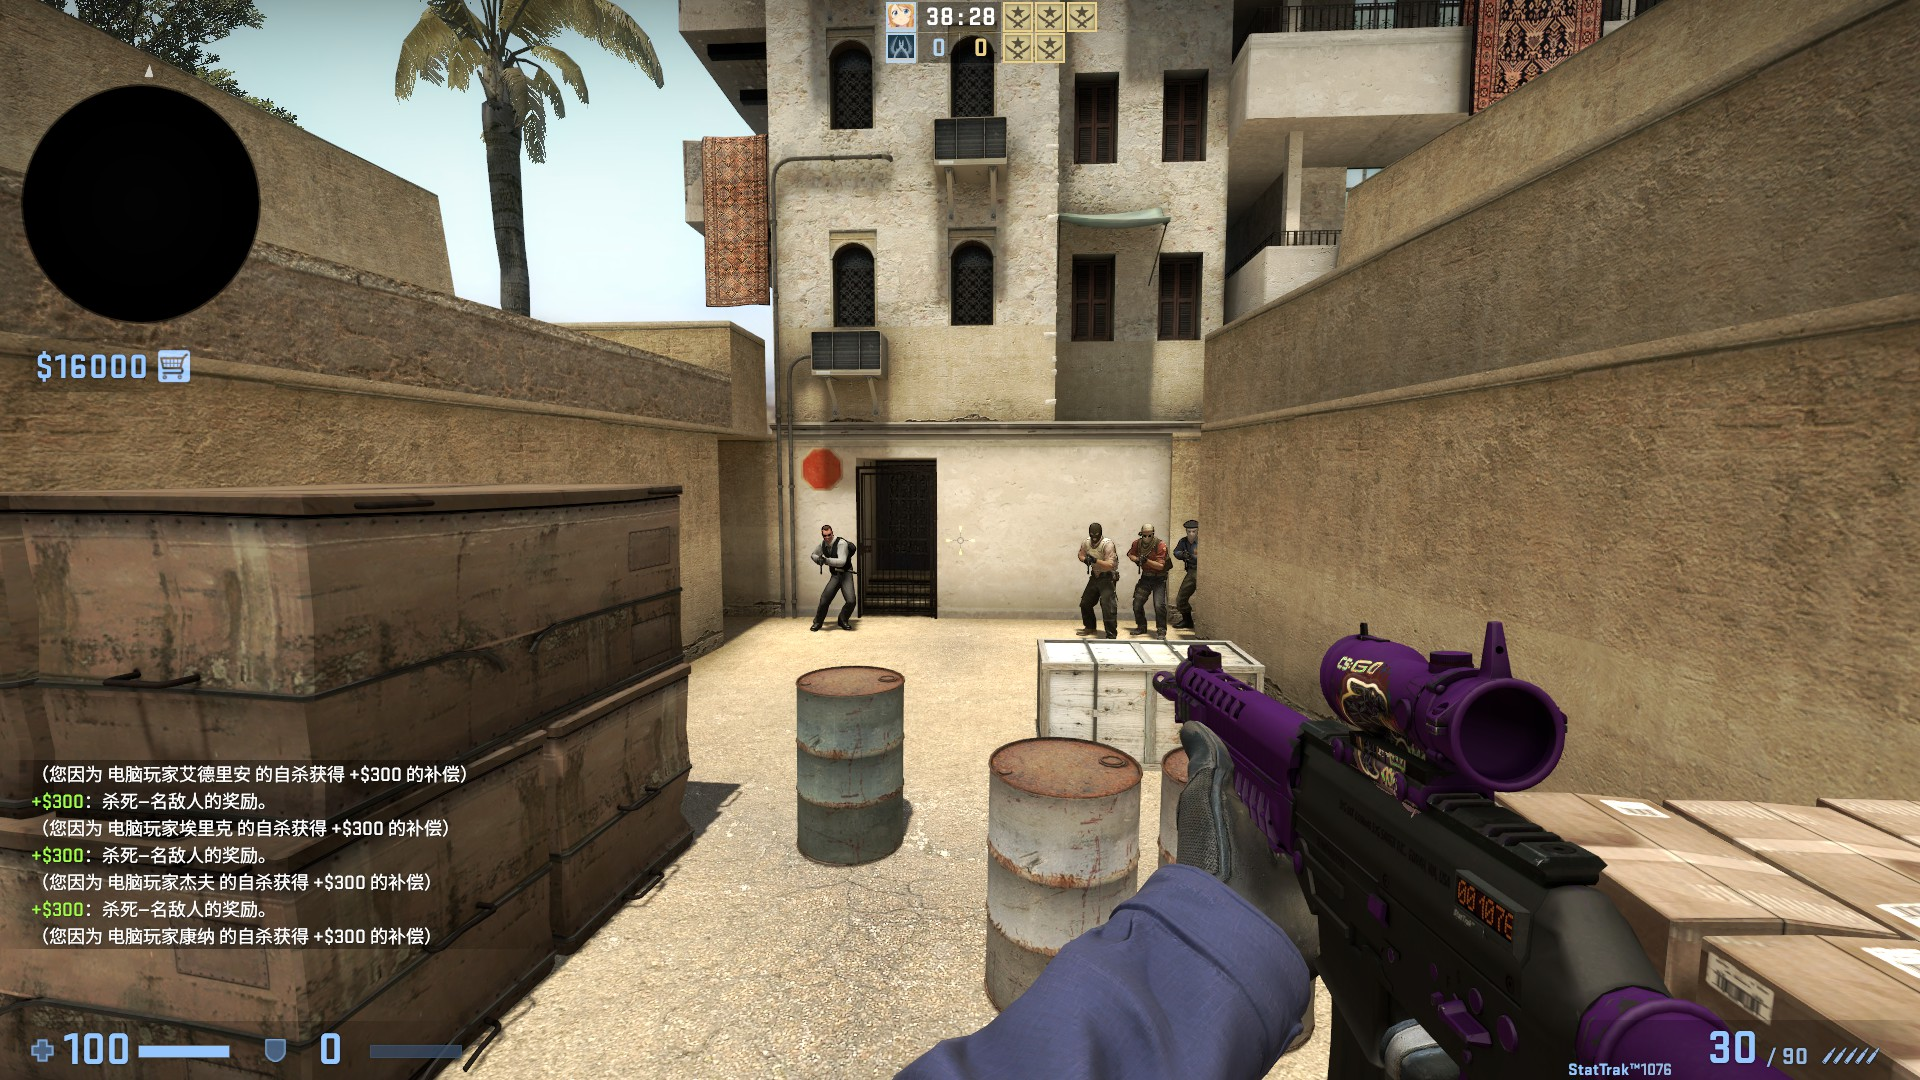head: (1137, 522, 1155, 546), (1085, 521, 1102, 544), (1180, 519, 1198, 539), (818, 524, 833, 541)
